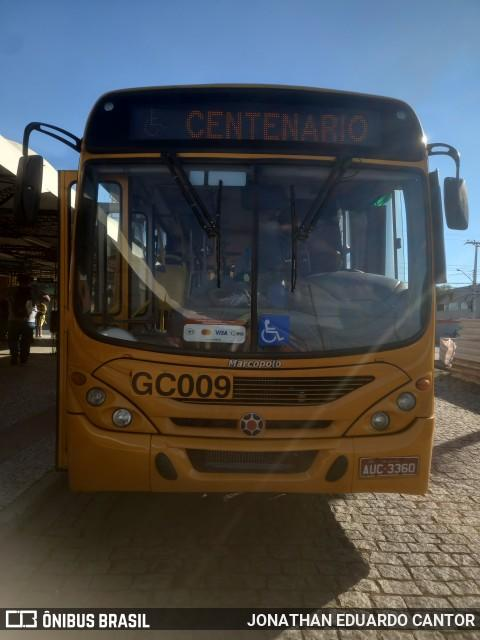CENTENARIO: (175, 96, 376, 152)
